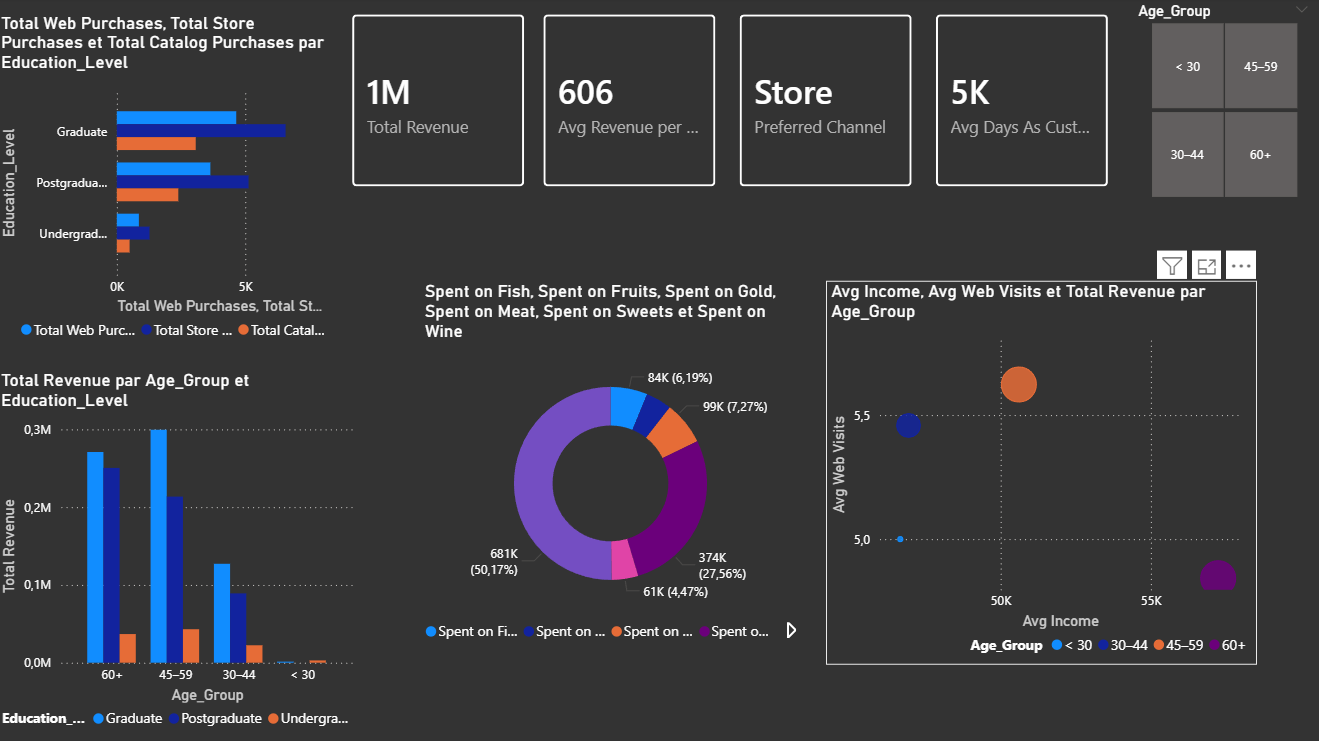

The page's visual inventory and layout, read from the dashboard file:
{"tool":"powerbi","page":{"name":"Spending Behavior","canvas":[1280,720],"ordinal":1},"visuals":[{"type":"cardVisual","fields":{"Data":["_Measures.Total Revenue"]},"box":[327.1,0,200,200],"z":0},{"type":"cardVisual","fields":{"Data":["_Measures.Avg Revenue per Customer"]},"box":[511.4,0,200,200],"z":1000},{"type":"cardVisual","fields":{"Data":["_Measures.Preferred Channel"]},"box":[701.4,0,200,200],"z":2000},{"type":"cardVisual","fields":{"Data":["_Measures.Avg Days As Customer"]},"box":[890,0,200,200],"z":3000},{"type":"donutChart","fields":{"Y":["_Measures.Spent on Fish","_Measures.Spent on Fruits","_Measures.Spent on Gold","_Measures.Spent on Meat","_Measures.Spent on Sweets","_Measures.Spent on Wine"]},"box":[408.6,274.3,368.6,357.1],"z":4000},{"type":"clusteredBarChart","fields":{"Category":["Dim_Customers.Education_Level"],"Y":["_Measures.Total Web Purchases","_Measures.Total Store Purchases","_Measures.Total Catalog Purchases"]},"box":[0,14.3,327.1,325.7],"z":5000},{"type":"clusteredColumnChart","fields":{"Category":["Dim_Customers.Age_Group"],"Y":["_Measures.Total Revenue"],"Series":["Dim_Customers.Education_Level"]},"box":[0,360,350,355.7],"z":6000},{"type":"scatterChart","fields":{"X":["_Measures.Avg Income"],"Y":["_Measures.Avg Web Visits"],"Series":["Dim_Customers.Age_Group"],"Size":["_Measures.Total Revenue"]},"box":[801.4,274.3,415.7,370],"z":7000},{"type":"slicer","fields":{"Values":["Dim_Customers.Age_Group"]},"box":[1090,0,190,200],"z":8000}]}

Visuals, with their boxes in screenshot pixels (x1, y1, x2, y2), scaled from the page's 1280x720 canvas onto the 1319x741 screenshot:
cardVisual - _Measures.Total Revenue: pyautogui.locateOnScreen(337, 0, 543, 206)
cardVisual - _Measures.Avg Revenue per Customer: pyautogui.locateOnScreen(527, 0, 733, 206)
cardVisual - _Measures.Preferred Channel: pyautogui.locateOnScreen(723, 0, 929, 206)
cardVisual - _Measures.Avg Days As Customer: pyautogui.locateOnScreen(917, 0, 1123, 206)
donutChart - _Measures.Spent on Fish x _Measures.Spent on Fruits: pyautogui.locateOnScreen(421, 282, 801, 650)
clusteredBarChart - Dim_Customers.Education_Level x _Measures.Total Web Purchases: pyautogui.locateOnScreen(0, 15, 337, 350)
clusteredColumnChart - Dim_Customers.Age_Group x _Measures.Total Revenue: pyautogui.locateOnScreen(0, 370, 361, 737)
scatterChart - _Measures.Avg Income x _Measures.Avg Web Visits: pyautogui.locateOnScreen(826, 282, 1254, 663)
slicer - Dim_Customers.Age_Group: pyautogui.locateOnScreen(1123, 0, 1318, 206)
